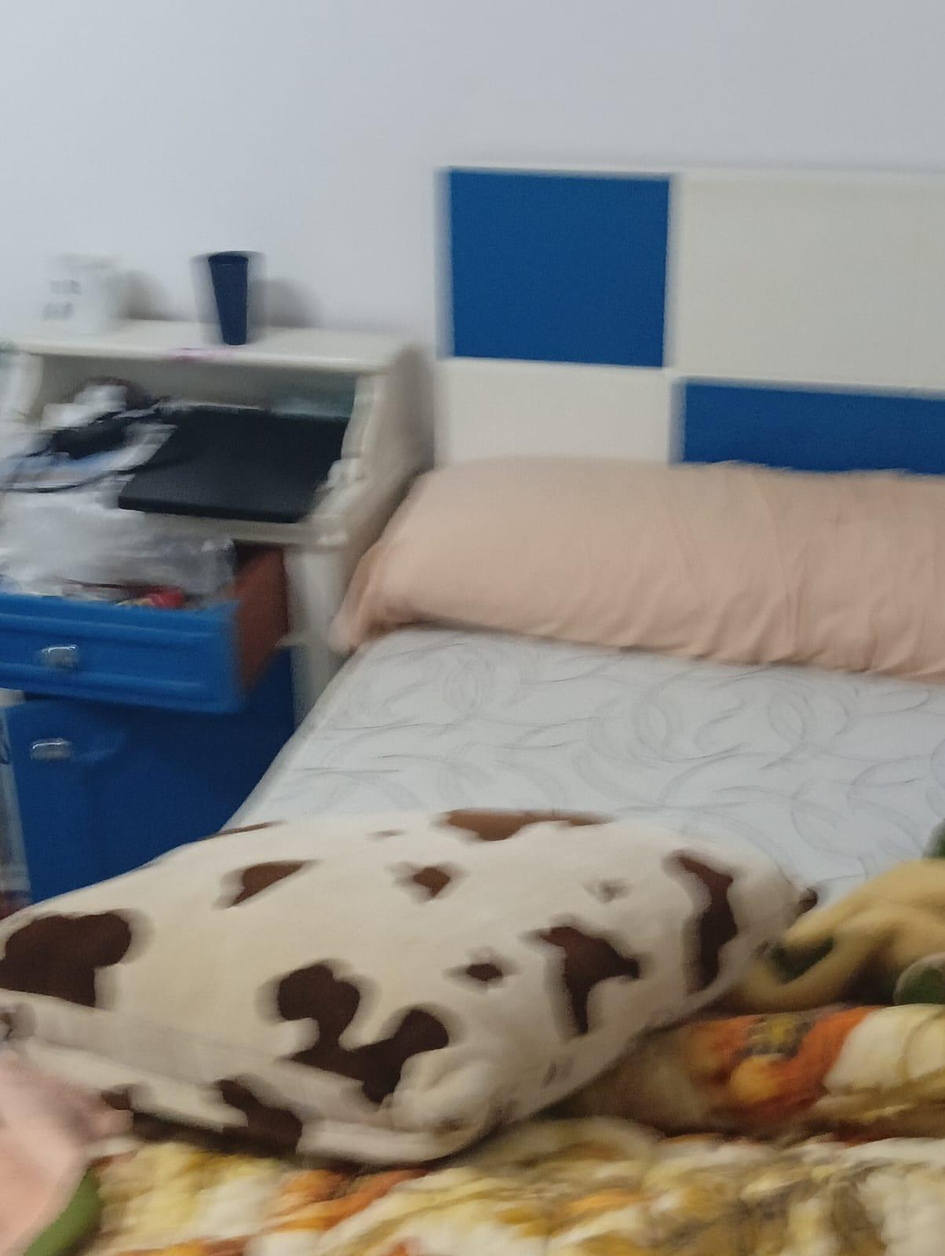cup: (42, 254, 122, 337), (206, 252, 250, 345)
